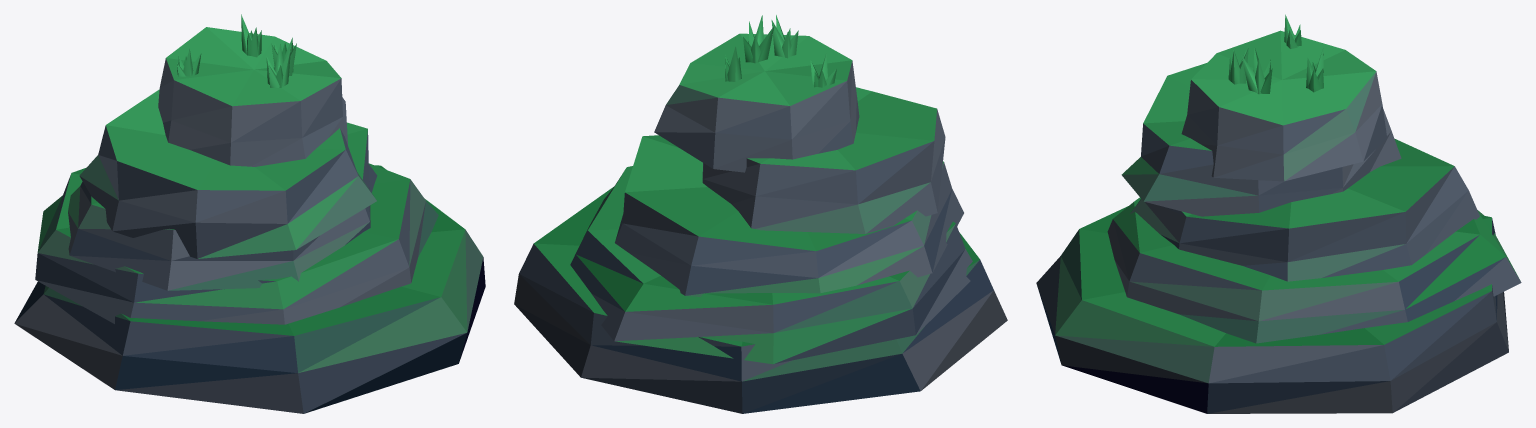
Rendered from batu_slate_granite_466995.glb.
The picture shows the model from 3 angles, left to right: view 1: azimuth 30°, elevation 25°; view 2: azimuth 150°, elevation 25°; view 3: azimuth 270°, elevation 25°; orthographic projection.
Visible parts, largest first — view 1: Batu_Pipih_Bertumpuk; view 2: Batu_Pipih_Bertumpuk; view 3: Batu_Pipih_Bertumpuk.
Boxes of the visible parts, x1,y1,x2,y2 form: Batu_Pipih_Bertumpuk: (14,14,485,413); Batu_Pipih_Bertumpuk: (514,15,1007,413); Batu_Pipih_Bertumpuk: (1036,14,1521,413).
Size of the model in its own units: 4.6 by 3.09 by 4.91.
